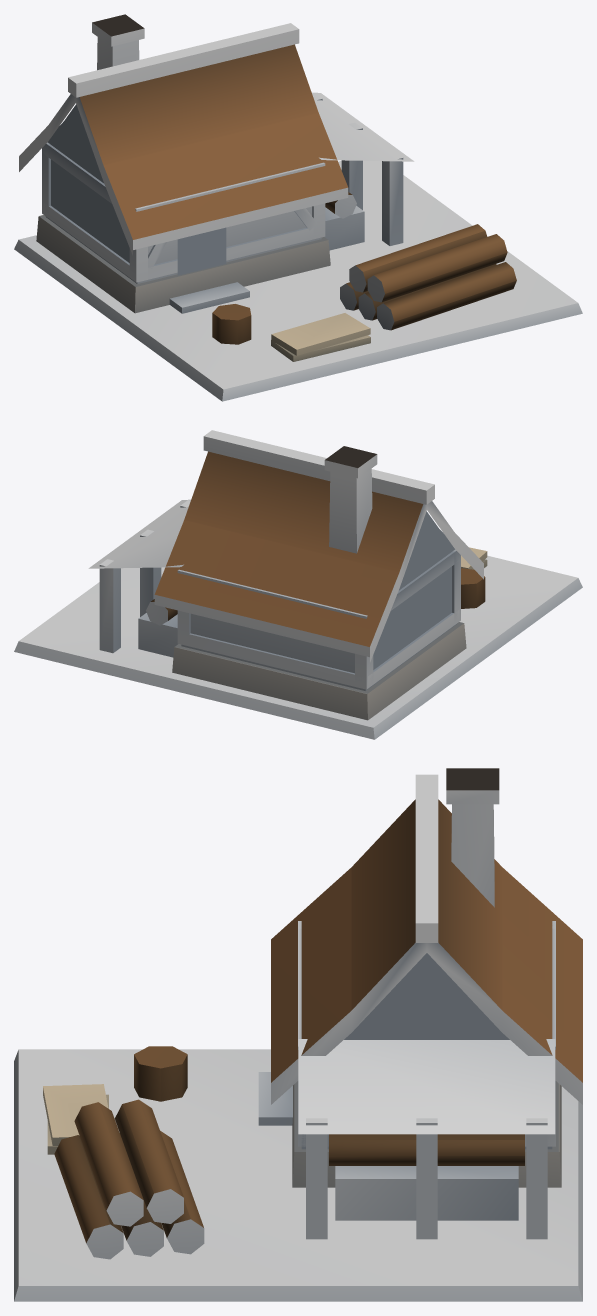
The model's file is lumber_mill_t2.glb.
3 renders of one model, top to bottom at view 1: azimuth 30°, elevation 25°; view 2: azimuth 150°, elevation 25°; view 3: azimuth 270°, elevation 25°, orthographic. The views are drawn at different scales.
Parts seen in each view (by area): view 1: lumber_mill_t2; view 2: lumber_mill_t2; view 3: lumber_mill_t2.
Boxes of the visible parts, box(x1,y1,x2,y2) form: lumber_mill_t2: box(14, 14, 582, 401); lumber_mill_t2: box(14, 430, 582, 739); lumber_mill_t2: box(14, 768, 582, 1301).
Size of the model in its own units: 1.86 by 1.17 by 1.86.
